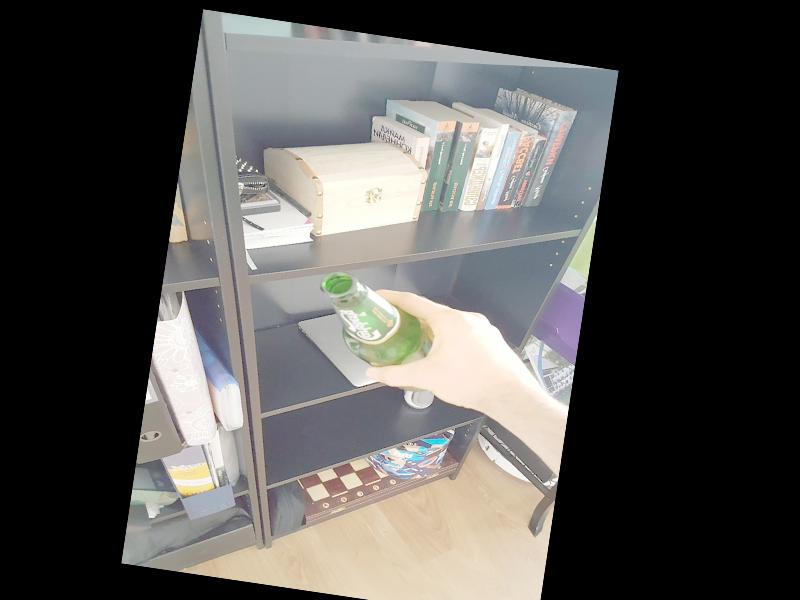Beer: (306, 269, 448, 394)
